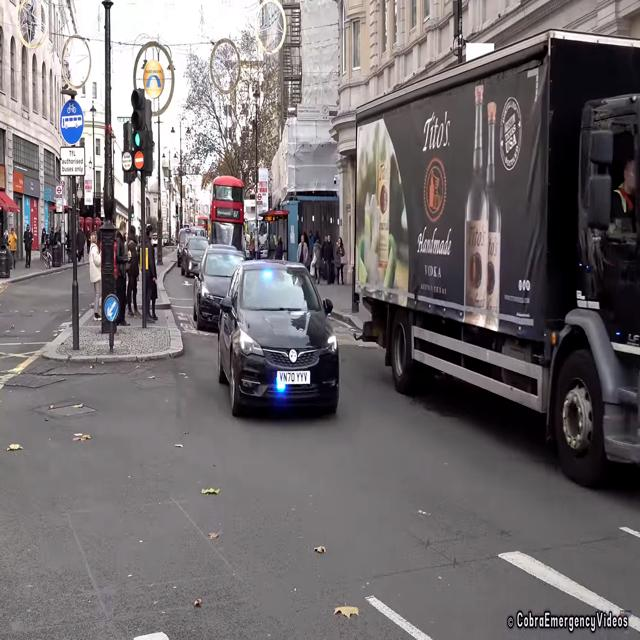emergency-vehicles: (216, 258, 350, 424)
